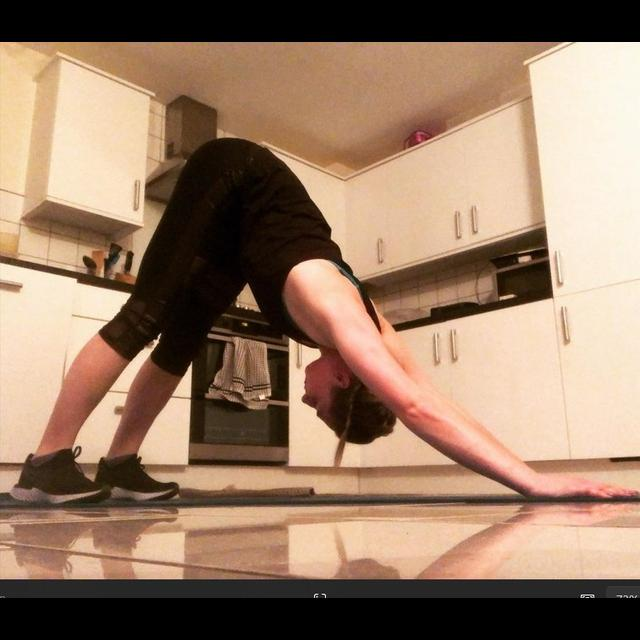Downward-Facing_Dog: (6, 130, 640, 517)
